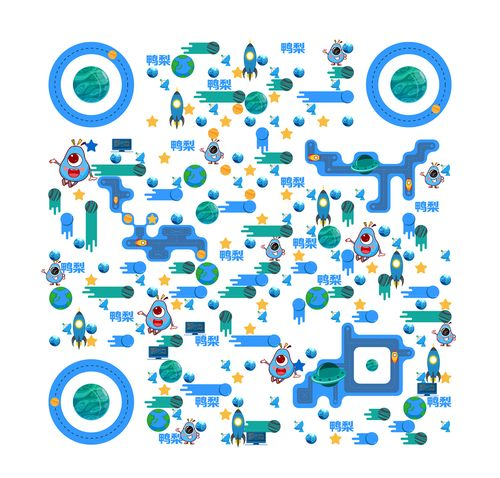QRCode: (39, 26, 463, 449)
